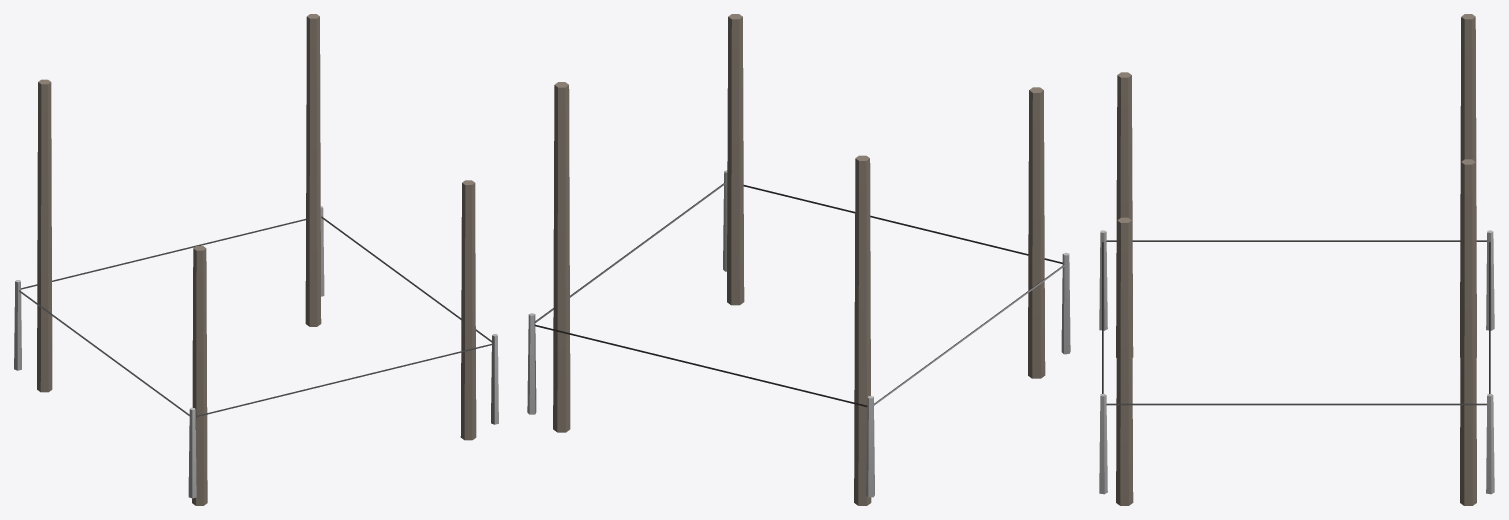
File: colector_frame.glb
3 views of the same model, side by side, from view 1: azimuth 30°, elevation 25°; view 2: azimuth 150°, elevation 25°; view 3: azimuth 270°, elevation 25° (orthographic). The views are drawn at different scales.
Parts seen in each view (by area): view 1: colector_frame; view 2: colector_frame; view 3: colector_frame.
Boxes of the visible parts, bbox=[...] form: colector_frame: bbox=[14, 14, 498, 505]; colector_frame: bbox=[527, 14, 1070, 505]; colector_frame: bbox=[1099, 14, 1494, 505].
Size of the model in its own units: 1.84 by 1.75 by 1.84.
